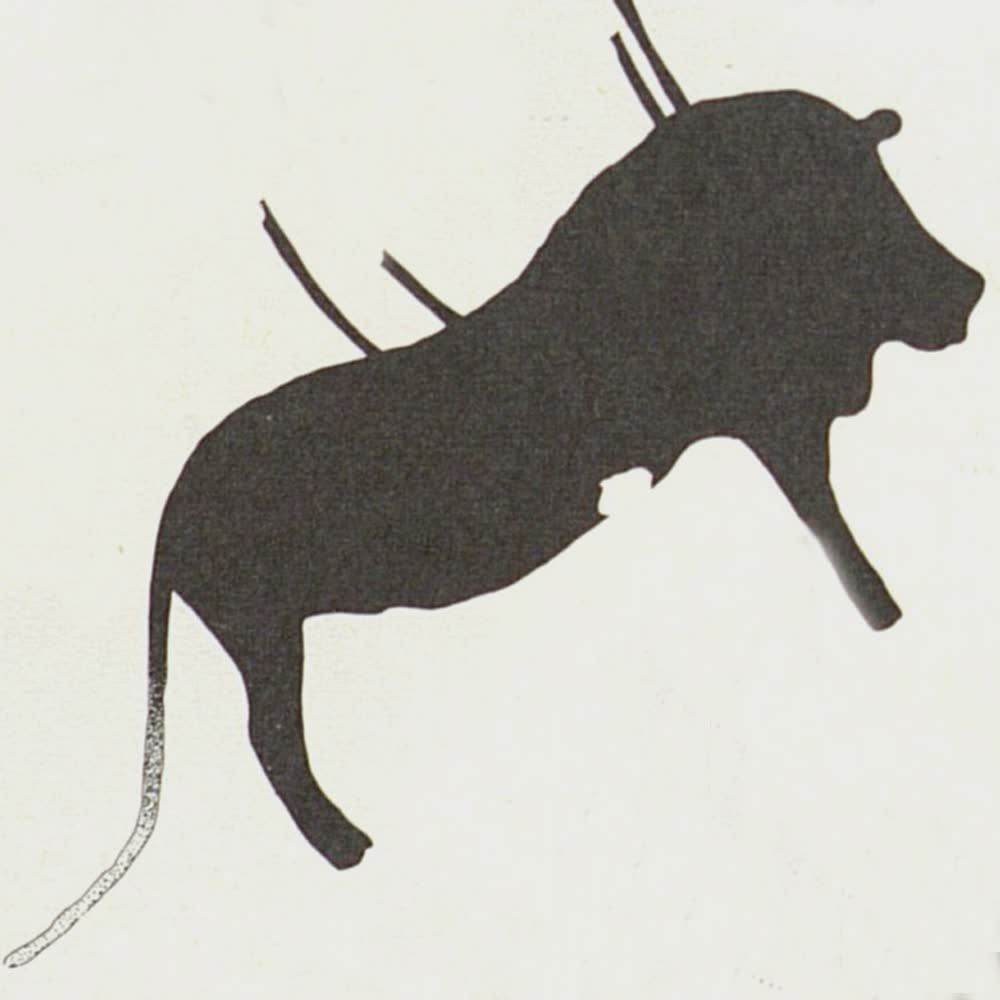animal: (6, 1, 984, 968)
